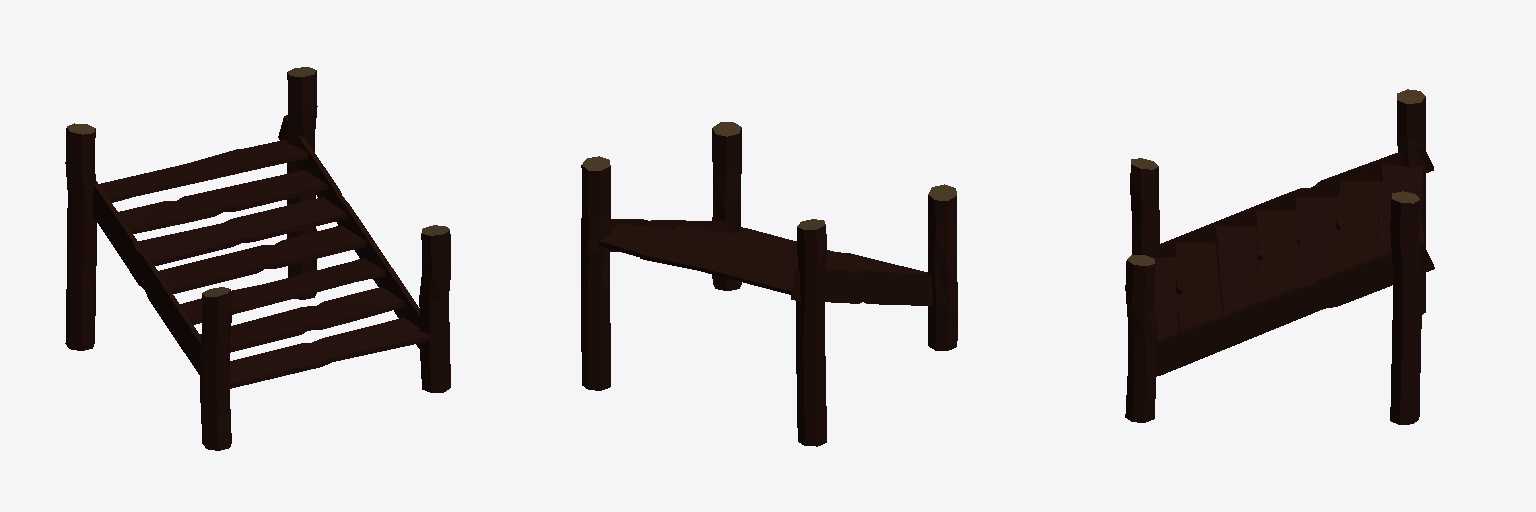
Rendered from Dock_Stairs.obj.
The picture shows the model from 3 angles: view 1: azimuth 30°, elevation 25°; view 2: azimuth 150°, elevation 25°; view 3: azimuth 270°, elevation 25°; orthographic projection.
Visible parts, largest first — view 1: Dock_Stairs_Cylinder.005; view 2: Dock_Stairs_Cylinder.005; view 3: Dock_Stairs_Cylinder.005.
Part boxes in pixels (left/top/right/bottom): Dock_Stairs_Cylinder.005: left=65, top=67, right=450, bottom=450; Dock_Stairs_Cylinder.005: left=581, top=122, right=957, bottom=446; Dock_Stairs_Cylinder.005: left=1125, top=89, right=1434, bottom=424.
Bounding box in the file's own units: 8.7 × 7.63 × 9.47.